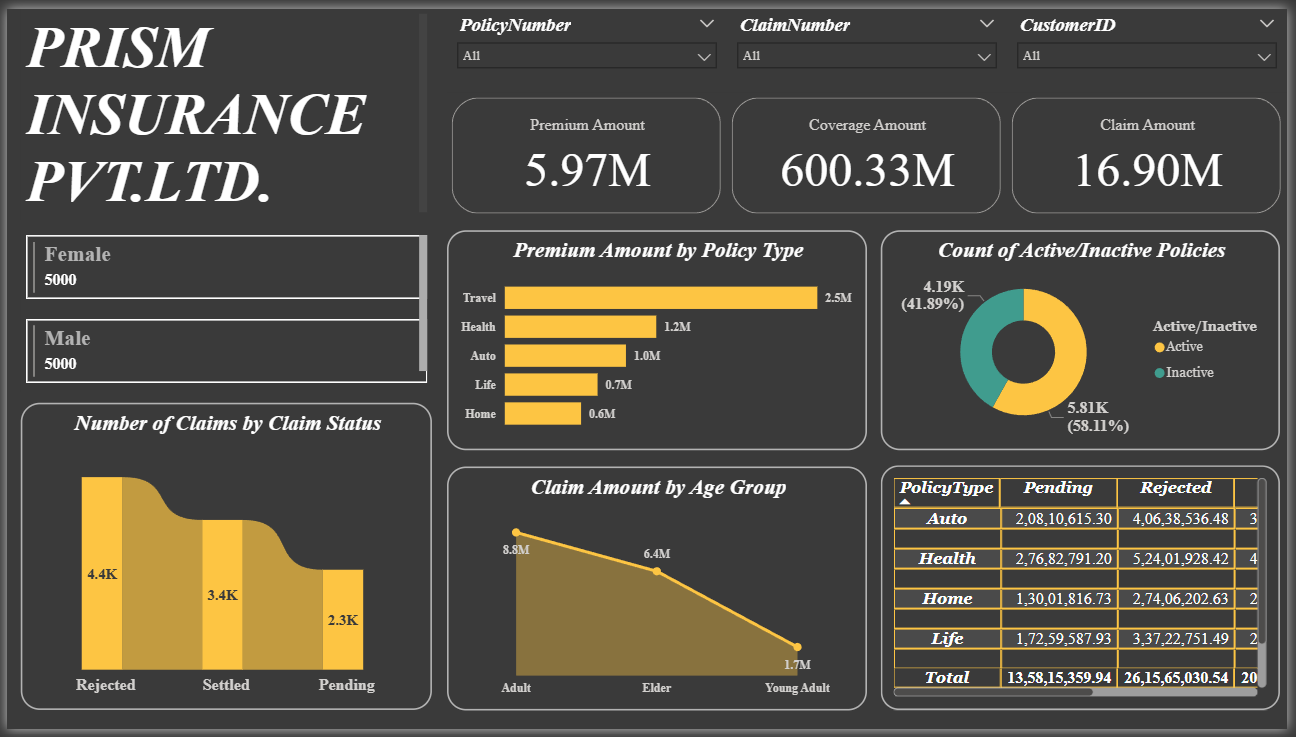

What the dashboard file says about the page in this screenshot:
{"tool":"powerbi","page":{"name":"Page 1","canvas":[1280,720],"ordinal":0},"visuals":[{"type":"slicer","fields":{"Values":["InsuranceData.PolicyNumber"]},"box":[440.5,0,279.9,83.7],"z":0},{"type":"slicer","fields":{"Values":["InsuranceData.ClaimNumber"]},"box":[720.4,0,279.9,83.7],"z":1000},{"type":"slicer","fields":{"Values":["InsuranceData.CustomerID"]},"box":[1000.3,0,279.9,83.7],"z":2000},{"type":"textbox","box":[14.3,0,411.4,210],"z":3000},{"type":"cardVisual","fields":{"Data":["Sum(InsuranceData.PremiumAmount)"]},"box":[440.5,83.7,279.9,126.2],"z":4000},{"type":"cardVisual","fields":{"Data":["Sum(InsuranceData.CoverageAmount)"]},"box":[720.4,83.7,279.9,126.2],"z":5000},{"type":"cardVisual","fields":{"Data":["Sum(InsuranceData.ClaimAmount)"]},"box":[1000.3,83.7,279.9,126.2],"z":6000},{"type":"multiRowCard","fields":{"Values":["InsuranceData.Gender","CountNonNull(InsuranceData.Gender)"]},"box":[14.3,221.4,411.4,161.4],"z":7000},{"type":"ribbonChart","title":"Number of Claims by Claim Status","fields":{"Category":["InsuranceData.ClaimStatus"],"Y":["CountNonNull(InsuranceData.ClaimStatus)"]},"box":[14.3,394.3,411.4,307.1],"z":8000},{"type":"barChart","title":"Premium Amount by Policy Type","fields":{"Category":["InsuranceData.PolicyType"],"Y":["Sum(InsuranceData.PremiumAmount)"]},"box":[440,221.4,420,220],"z":9000},{"type":"lineChart","title":"Claim Amount by Age Group","fields":{"Category":["InsuranceData.Age Group"],"Y":["Sum(InsuranceData.ClaimAmount)"]},"box":[440,457.1,420,244.3],"z":10000},{"type":"donutChart","title":"Count of Active/Inactive Policies","fields":{"Category":["InsuranceData.Active/Inactive"],"Y":["CountNonNull(InsuranceData.Active/Inactive)"]},"box":[873.3,221.1,398.9,220],"z":11000},{"type":"pivotTable","fields":{"Rows":["InsuranceData.PolicyType"],"Values":["Sum(InsuranceData.CoverageAmount)"],"Columns":["InsuranceData.ClaimStatus"]},"box":[873.3,456.7,398.9,244.4],"z":12000}]}

Visuals, with their boxes in screenshot pixels (x1, y1, x2, y2), scaled from the page's 1280x720 canvas onto the 1296x737 screenshot:
slicer - InsuranceData.PolicyNumber: 446,0,729,86
slicer - InsuranceData.ClaimNumber: 729,0,1013,86
slicer - InsuranceData.CustomerID: 1013,0,1295,86
textbox: 14,0,431,215
cardVisual - Sum(InsuranceData.PremiumAmount): 446,86,729,215
cardVisual - Sum(InsuranceData.CoverageAmount): 729,86,1013,215
cardVisual - Sum(InsuranceData.ClaimAmount): 1013,86,1295,215
multiRowCard - InsuranceData.Gender x CountNonNull(InsuranceData.Gender): 14,227,431,392
"Number of Claims by Claim Status" ribbonChart: 14,404,431,718
"Premium Amount by Policy Type" barChart: 446,227,871,452
"Claim Amount by Age Group" lineChart: 446,468,871,718
"Count of Active/Inactive Policies" donutChart: 884,226,1288,452
pivotTable - InsuranceData.PolicyType x Sum(InsuranceData.CoverageAmount): 884,467,1288,718
